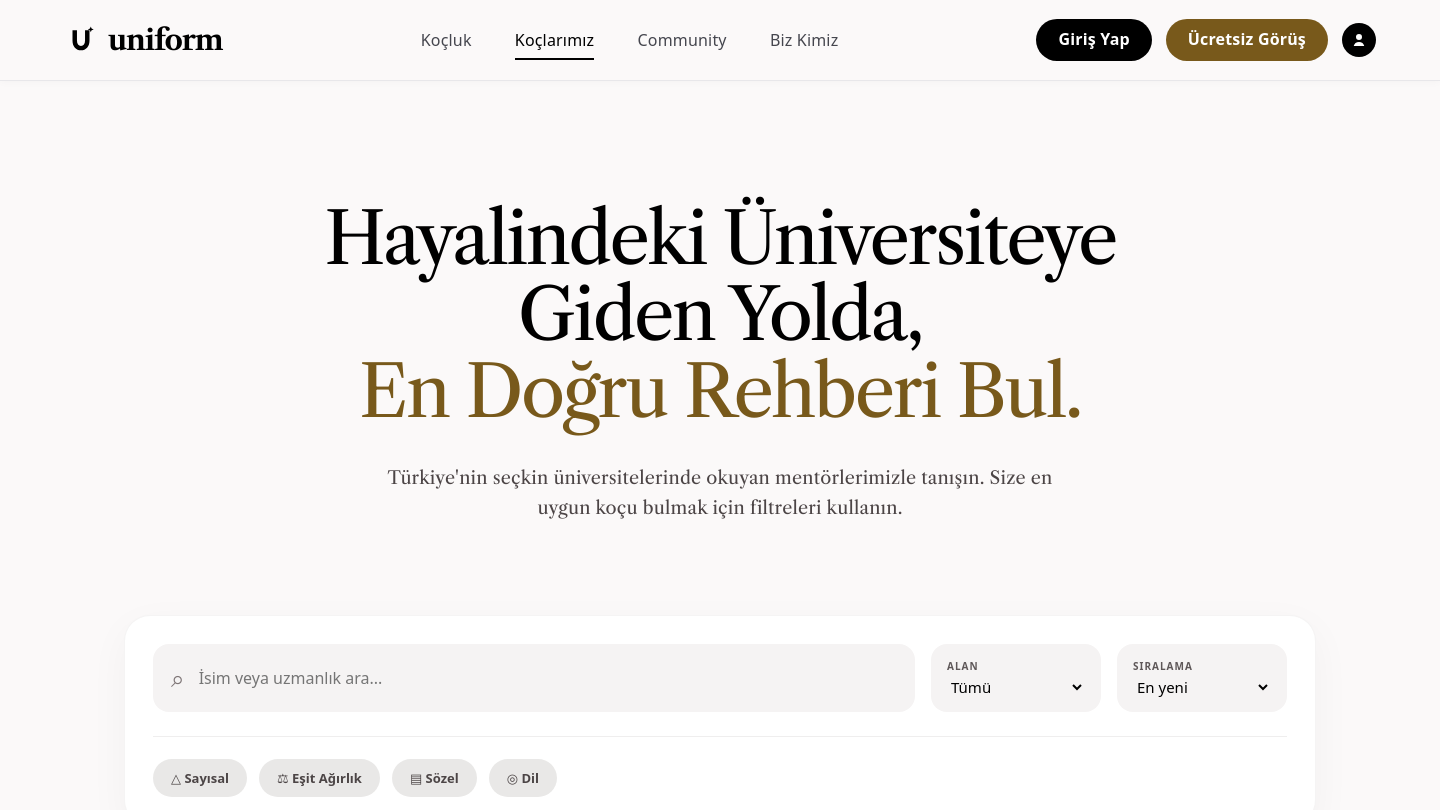
Test: Koçlarımız sayfası › refreshes backend results immediately when the track select changes
Select "Sözel" in the dropdown labelled "Alan" at (1016, 687), box [947,676,1085,698]
(page scrolled)
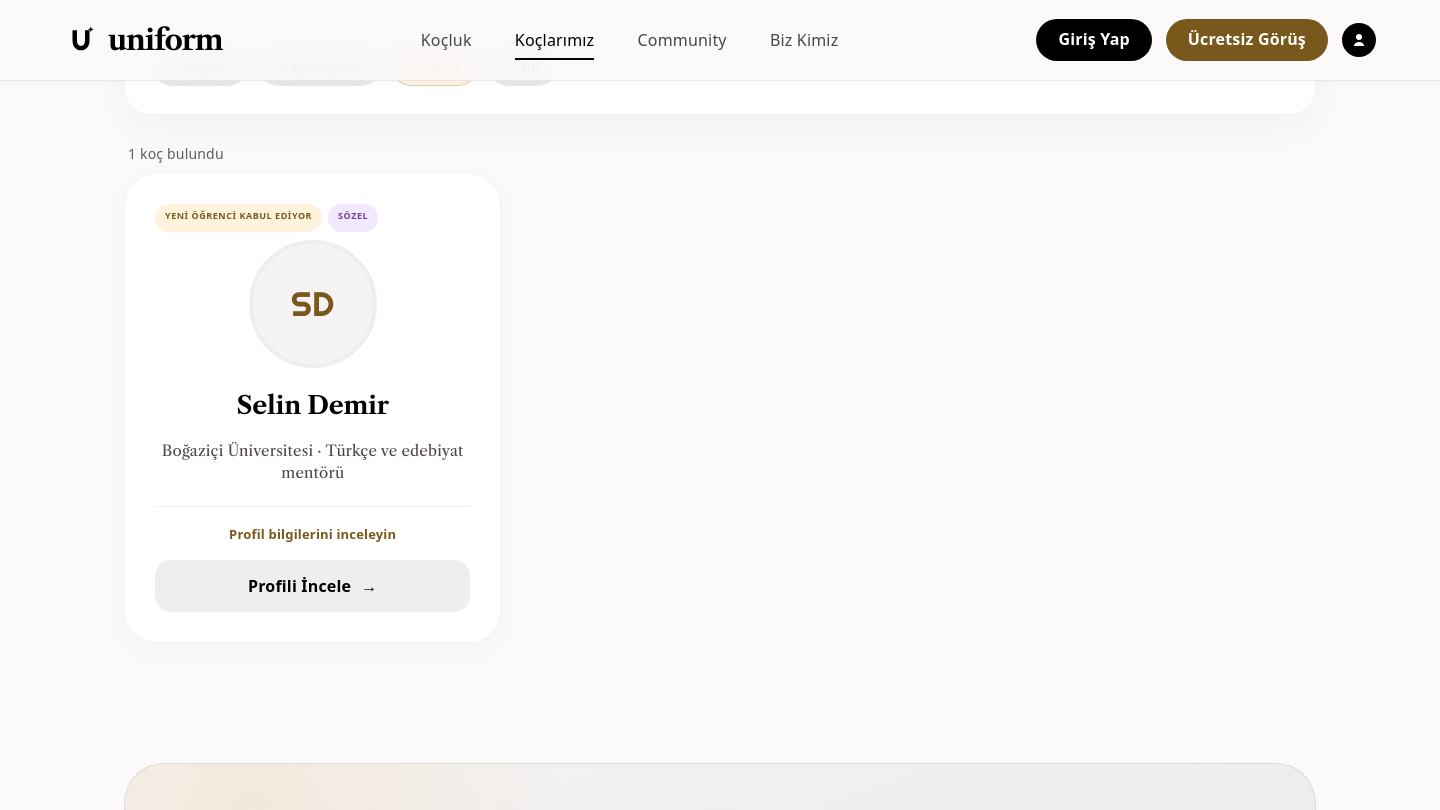
Now the heading "Selin Demir" is shown, box [237,390,389,422]
